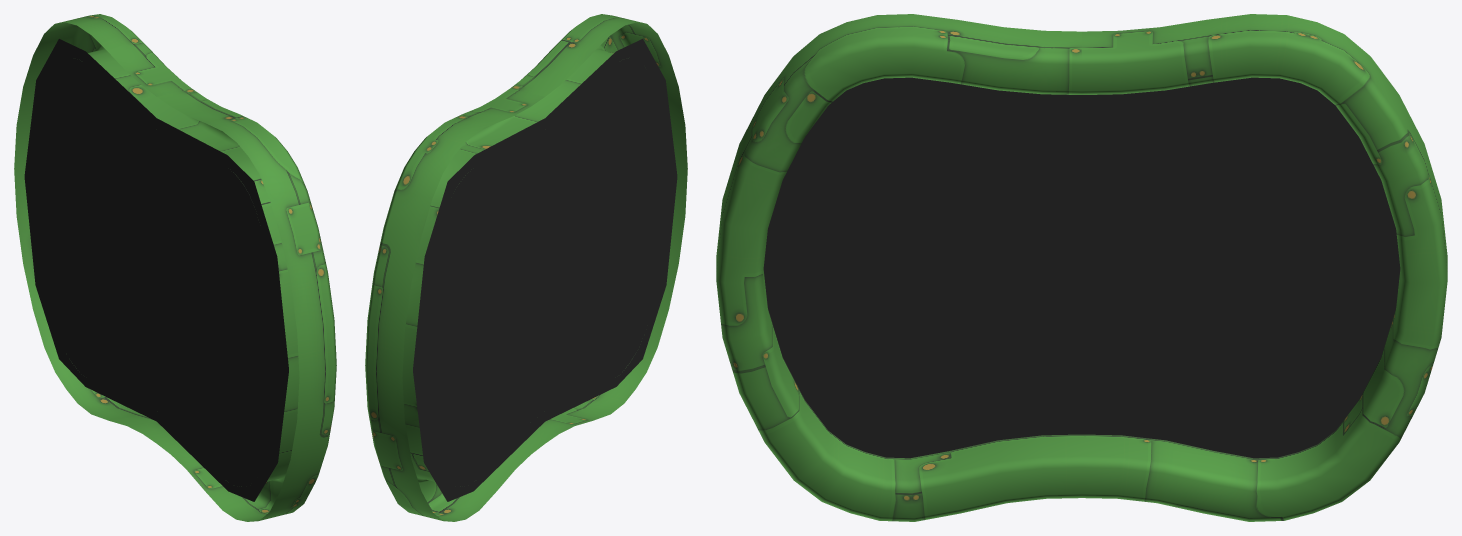
File: Env_Cnt_ScreenLarge.fbx
3 renders of one model, left to right at view 1: azimuth 30°, elevation 25°; view 2: azimuth 150°, elevation 25°; view 3: azimuth 270°, elevation 25°, orthographic. The views are drawn at different scales.
Visible parts, largest first — view 1: Screen_Large, Screen_Large_Border; view 2: Screen_Large, Screen_Large_Border; view 3: Screen_Large, Screen_Large_Border.
Part boxes in pixels (x1,y1,x2,y2): Screen_Large: (24, 39, 288, 501); Screen_Large_Border: (14, 14, 336, 521); Screen_Large: (413, 39, 677, 501); Screen_Large_Border: (365, 14, 687, 521); Screen_Large: (763, 77, 1400, 458); Screen_Large_Border: (716, 14, 1447, 521).
Size of the model in its own units: 27.53 by 244 by 332.
